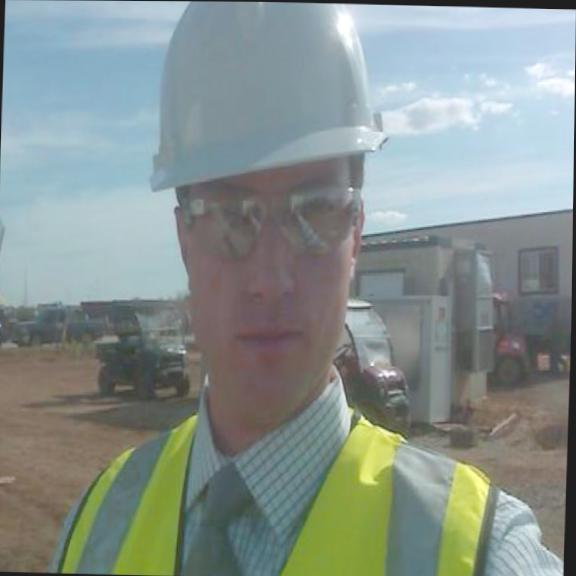safety_vest: (53, 402, 507, 576)
